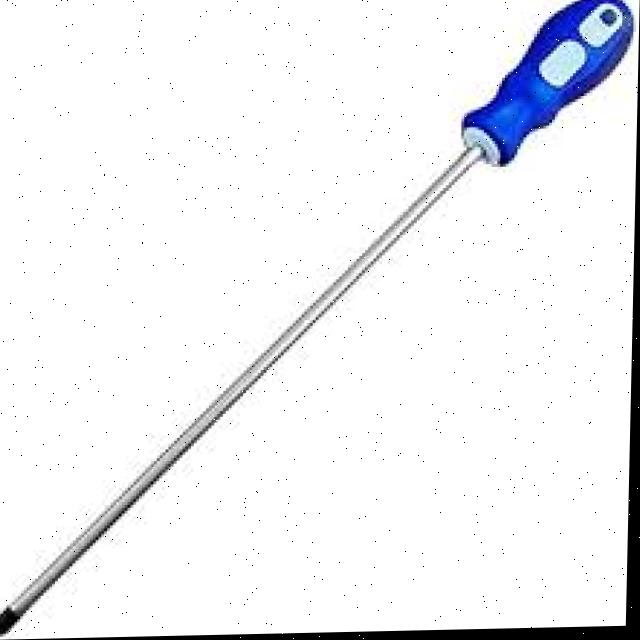Screwdriver: (0, 0, 633, 635)
